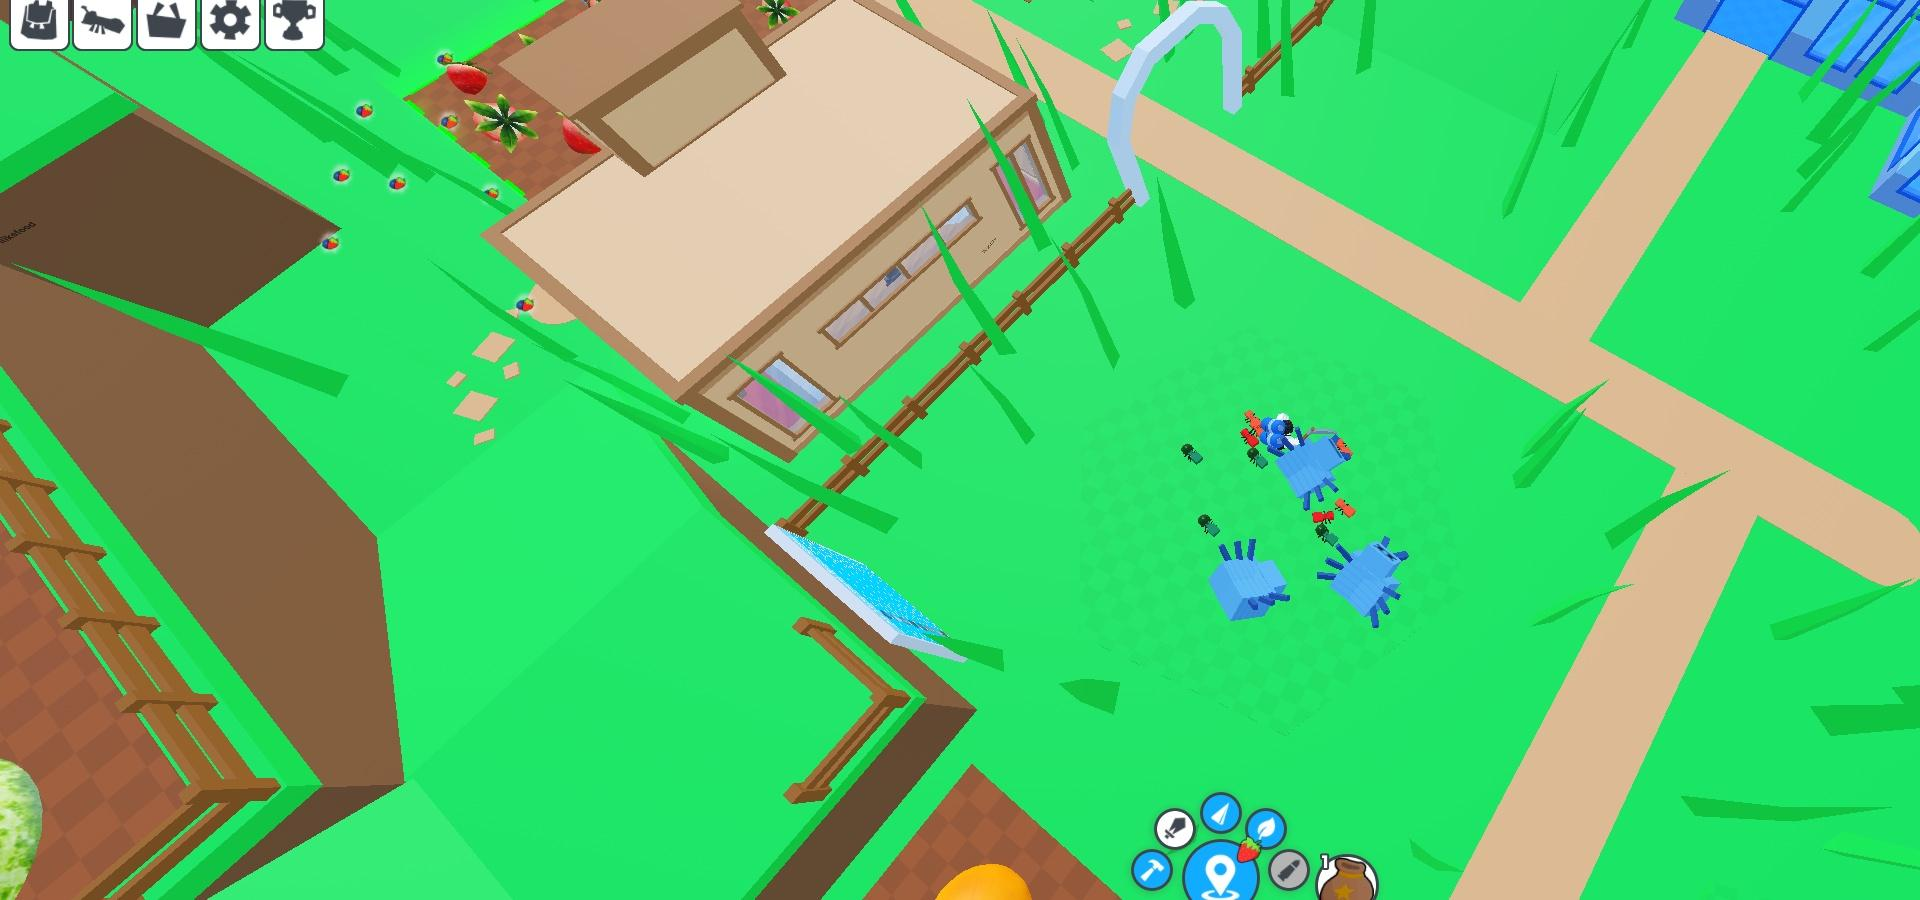Enemy: (1319, 533, 1413, 629), (1273, 427, 1357, 513), (1206, 542, 1292, 626)
